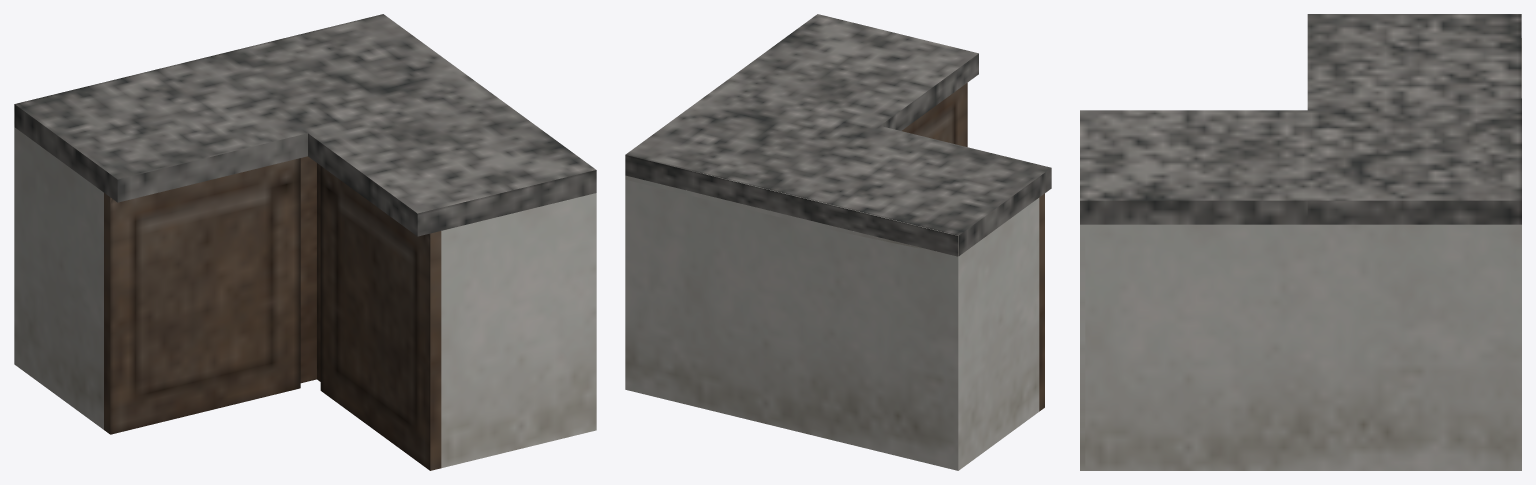
Rendered from SM_EC_House_Kitchen_Worktop_Complete01.fbx.
3 renders of one model, left to right at view 1: azimuth 30°, elevation 25°; view 2: azimuth 150°, elevation 25°; view 3: azimuth 270°, elevation 25°, orthographic. The views are drawn at different scales.
Parts seen in each view (by area): view 1: SM_EC_House_Kitchen_Worktop_Complete01, SM_EC_CupboardDoor_7.011, SM_EC_CupboardDoor_7.010; view 2: SM_EC_House_Kitchen_Worktop_Complete01, SM_EC_CupboardDoor_7.010, SM_EC_CupboardDoor_7.011; view 3: SM_EC_House_Kitchen_Worktop_Complete01.
Boxes of the visible parts, x1,y1,x2,y2 form: SM_EC_House_Kitchen_Worktop_Complete01: (14,14,596,468); SM_EC_CupboardDoor_7.011: (104,158,300,434); SM_EC_CupboardDoor_7.010: (320,166,441,470); SM_EC_House_Kitchen_Worktop_Complete01: (625,14,1051,470); SM_EC_CupboardDoor_7.010: (902,83,967,146); SM_EC_CupboardDoor_7.011: (1039,193,1044,411); SM_EC_House_Kitchen_Worktop_Complete01: (1080,14,1521,470).
Size of the model in its own units: 1.68 by 1.68 by 1.13.
